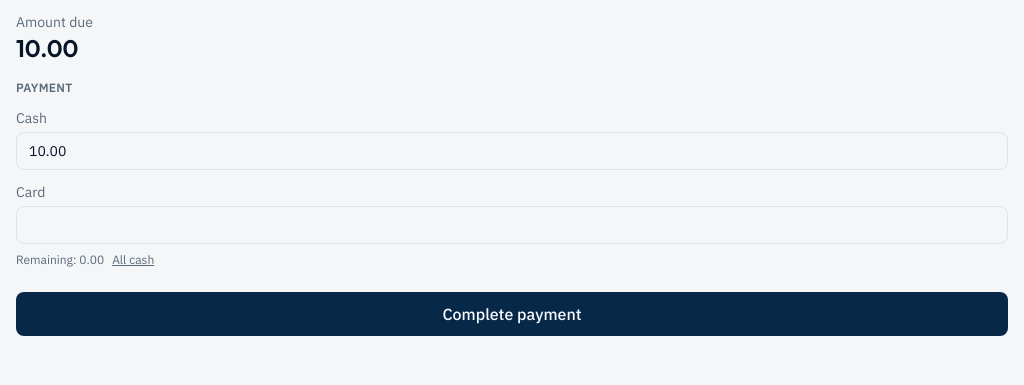
Test: PaymentPanel offline queue wiring › keeps cart when enqueue fails
Click the button "Complete payment": (512, 314) [16, 292, 1008, 336]
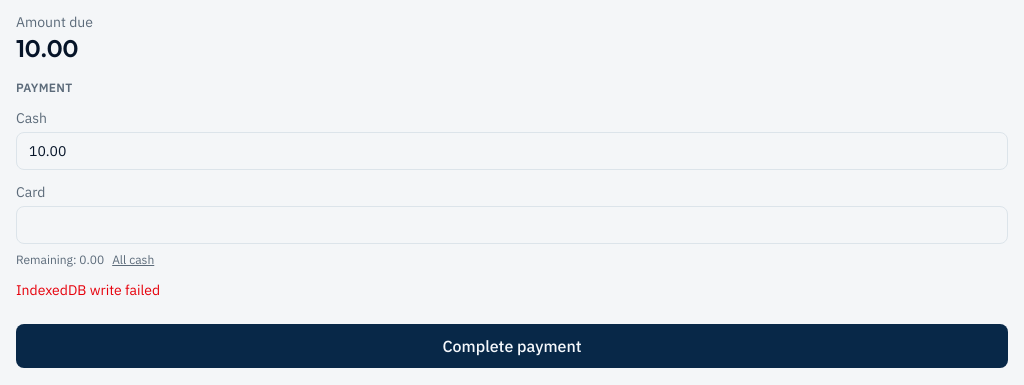
Expected: the text "IndexedDB write failed" is shown, [16, 281, 160, 299]
